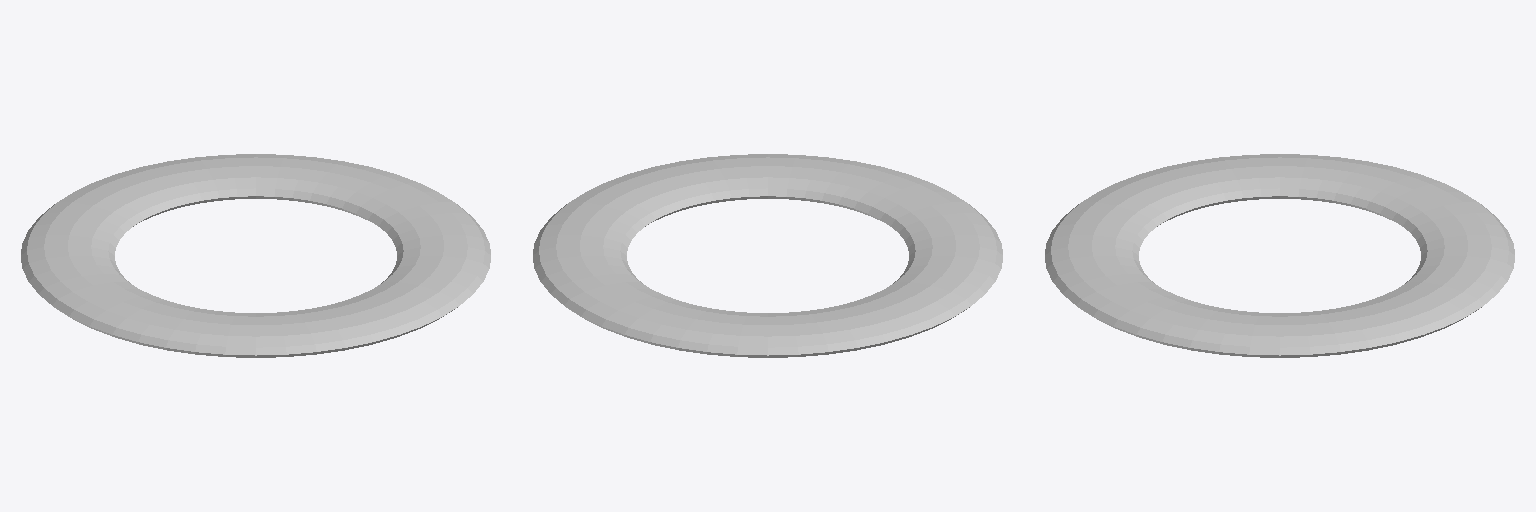
Rendered from ring.obj.
The picture shows the model from 3 angles: view 1: azimuth 30°, elevation 25°; view 2: azimuth 150°, elevation 25°; view 3: azimuth 270°, elevation 25°; orthographic projection.
Visible parts, largest first — view 1: Torus; view 2: Torus; view 3: Torus.
Part boxes in pixels (bbox=[...]): Torus: bbox=[21, 154, 490, 357]; Torus: bbox=[533, 154, 1002, 357]; Torus: bbox=[1045, 154, 1514, 357].
Size of the model in its own units: 5.16 by 0.25 by 5.16.